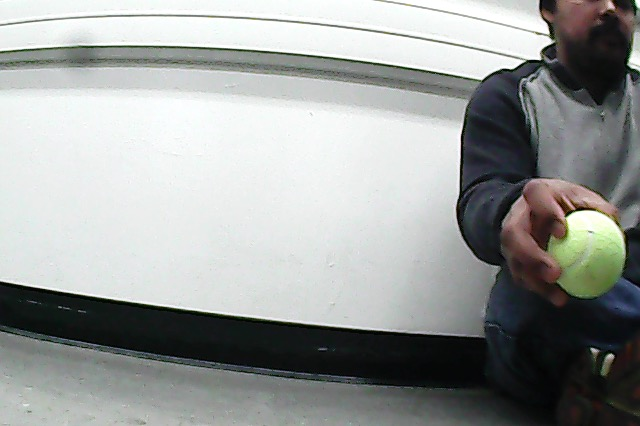ball: (545, 207, 629, 302)
